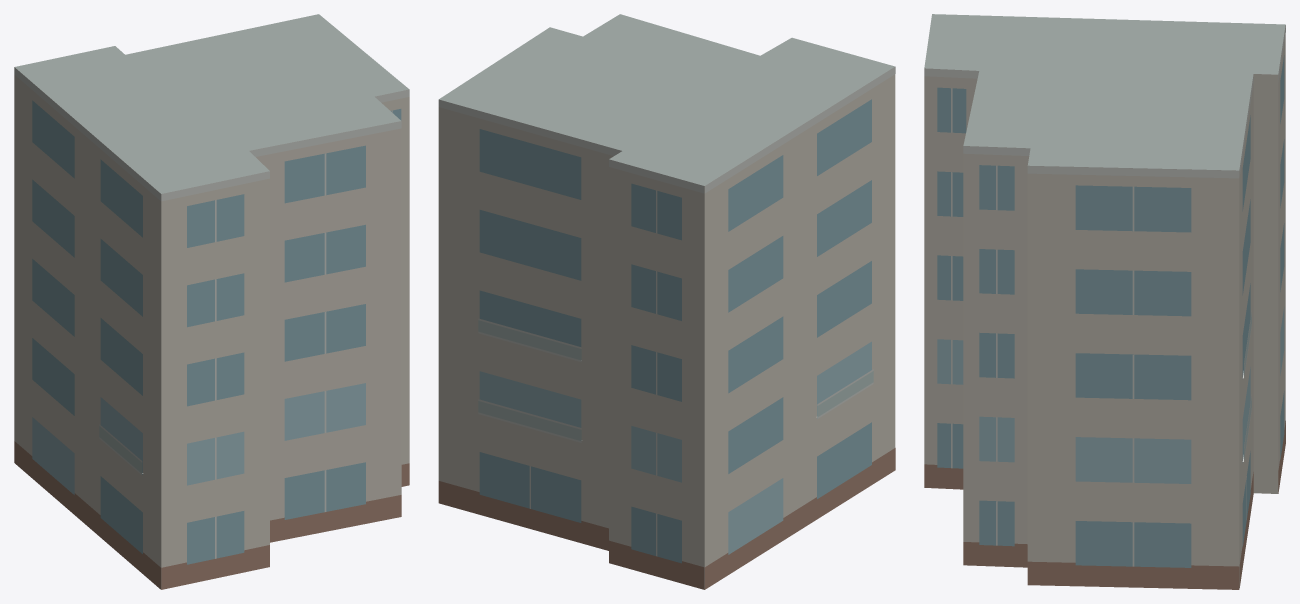
The model's file is survey-upis-33019301.glb.
3 renders of one model, left to right at view 1: azimuth 30°, elevation 25°; view 2: azimuth 150°, elevation 25°; view 3: azimuth 270°, elevation 25°, orthographic. The views are drawn at different scales.
Visible parts, largest first — view 1: survey-upis-33019301.tmp; view 2: survey-upis-33019301.tmp; view 3: survey-upis-33019301.tmp.
Boxes of the visible parts, box(x1,y1,x2,y2) form: survey-upis-33019301.tmp: box(14, 14, 409, 589); survey-upis-33019301.tmp: box(438, 14, 895, 589); survey-upis-33019301.tmp: box(924, 14, 1285, 589).
Bounding box in the file's own units: 10.42 × 13 × 10.17.
